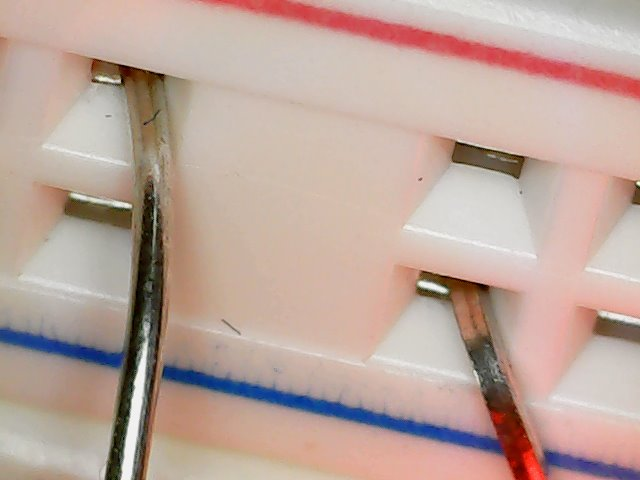connect: (367, 234, 549, 415), (52, 29, 221, 196)
